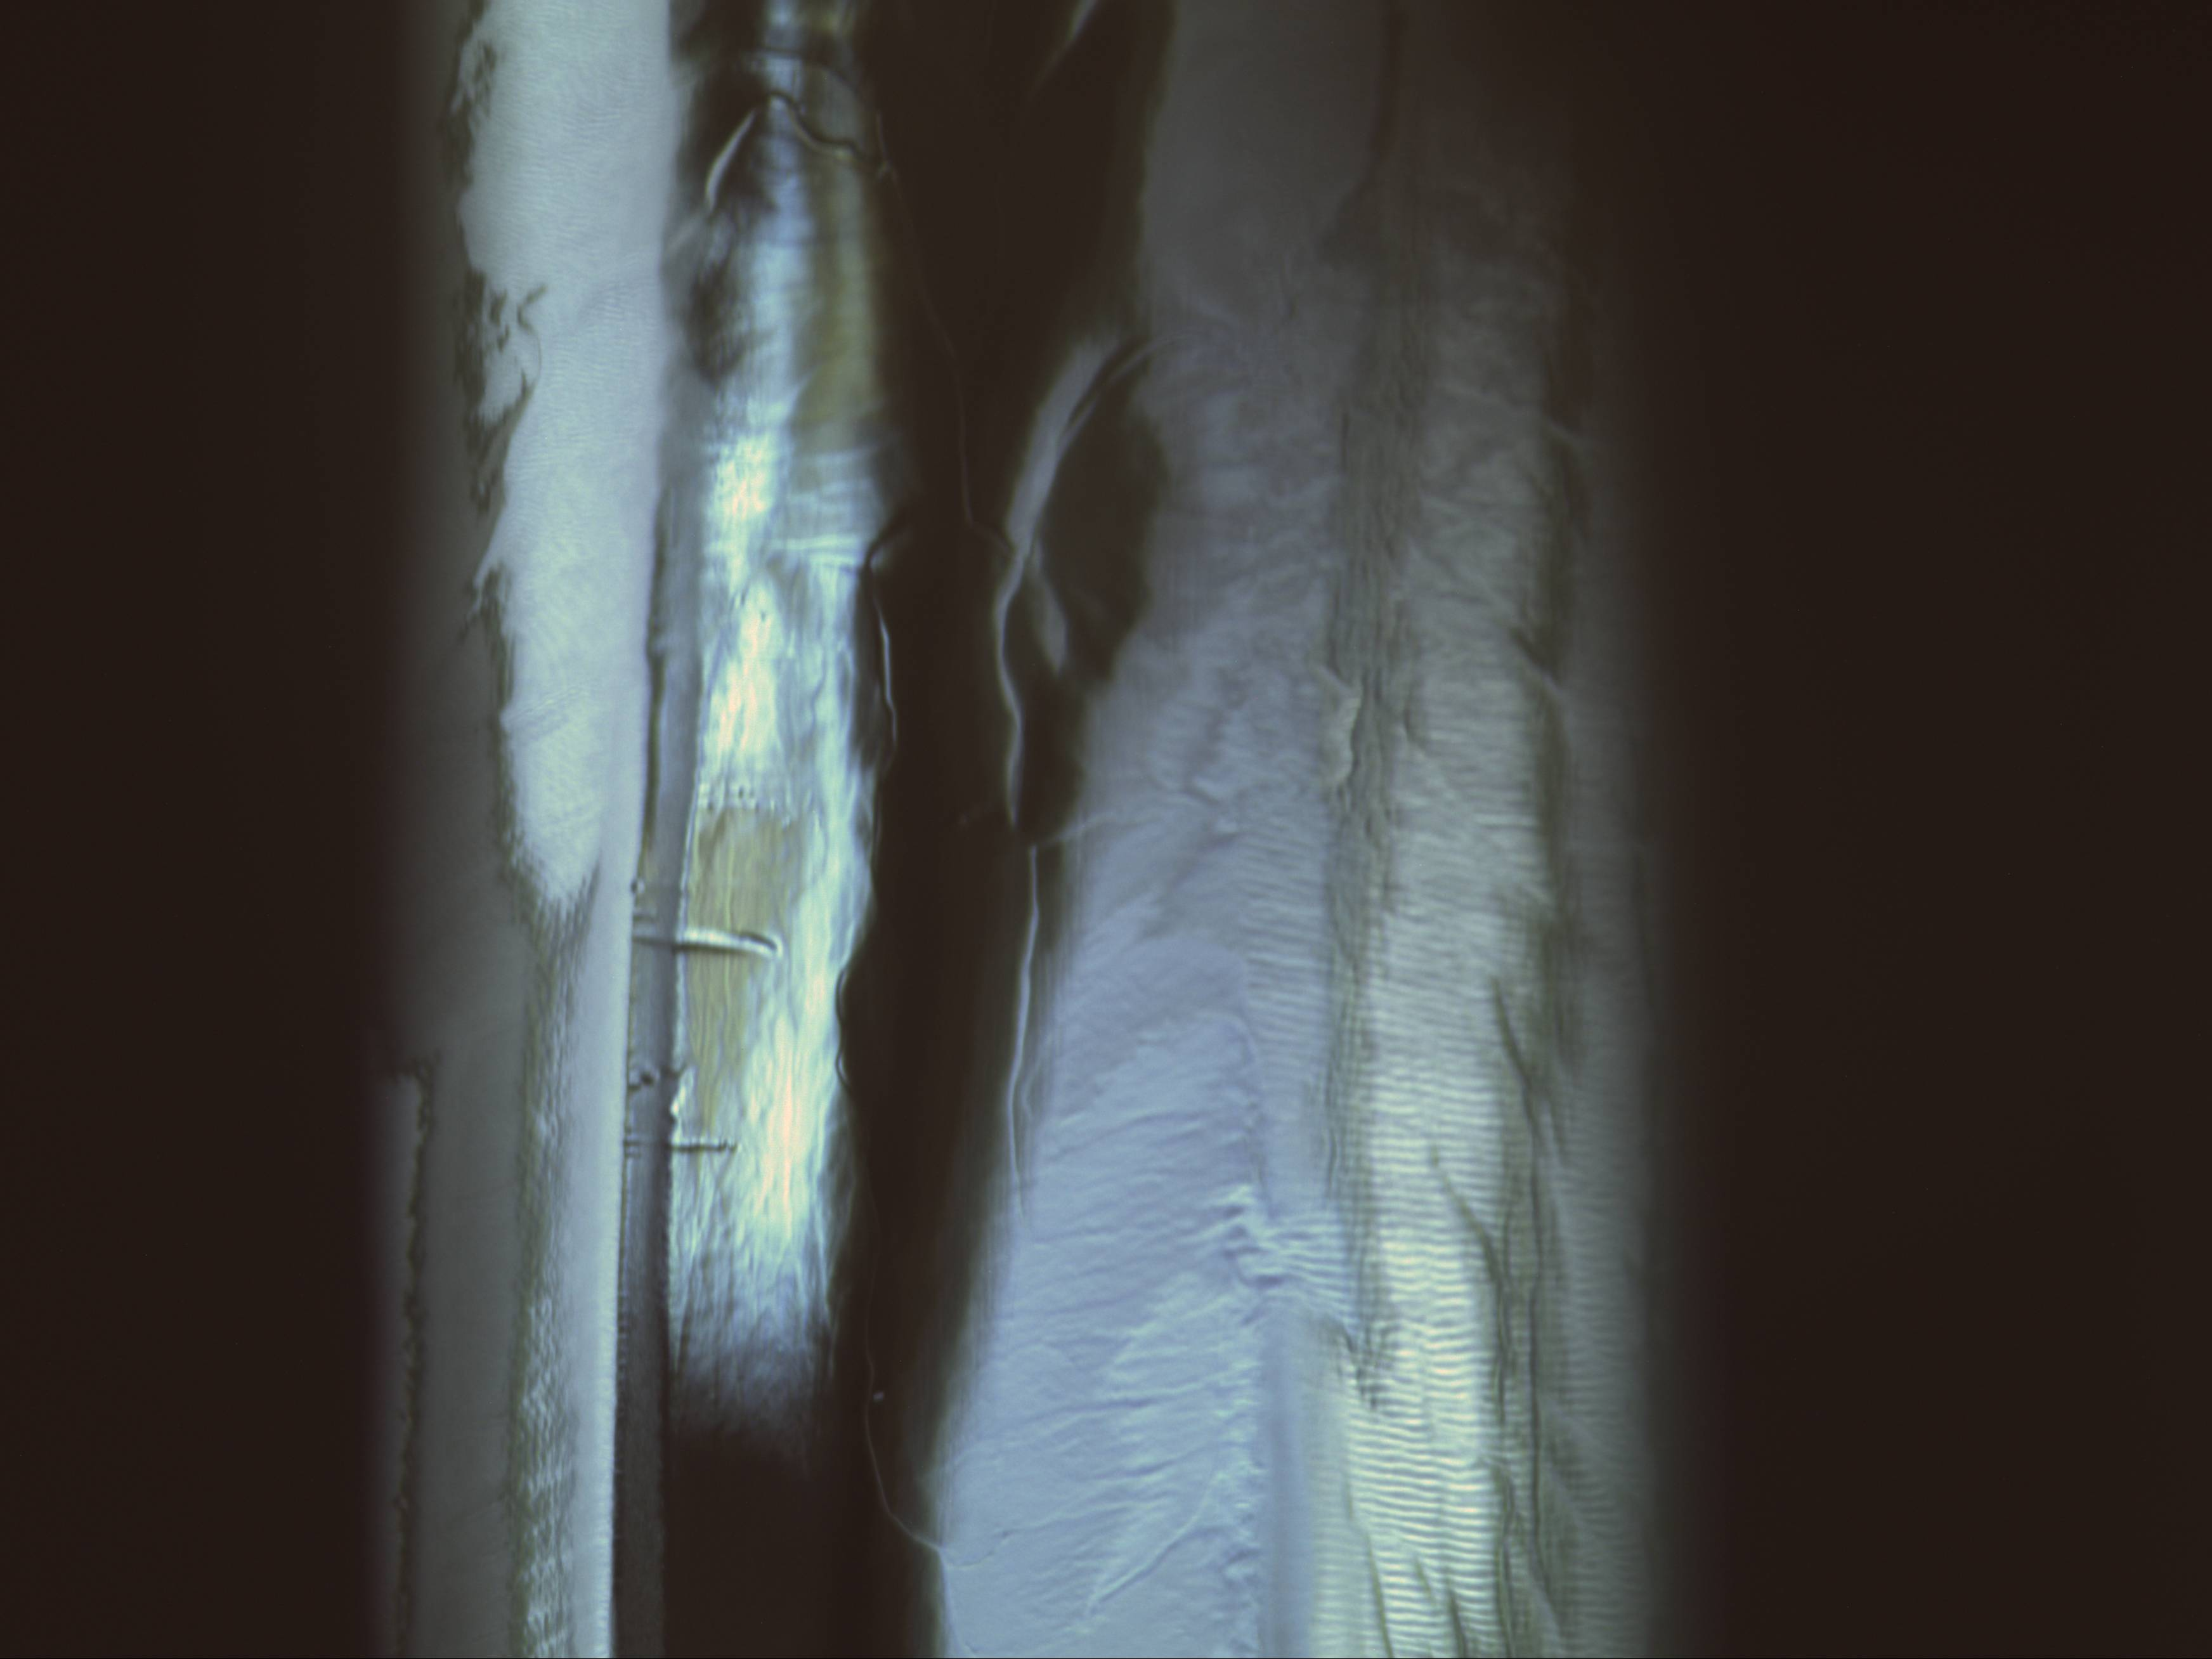defect: (615, 913, 789, 967), (613, 1044, 693, 1115), (651, 1129, 747, 1157), (618, 861, 653, 901)
